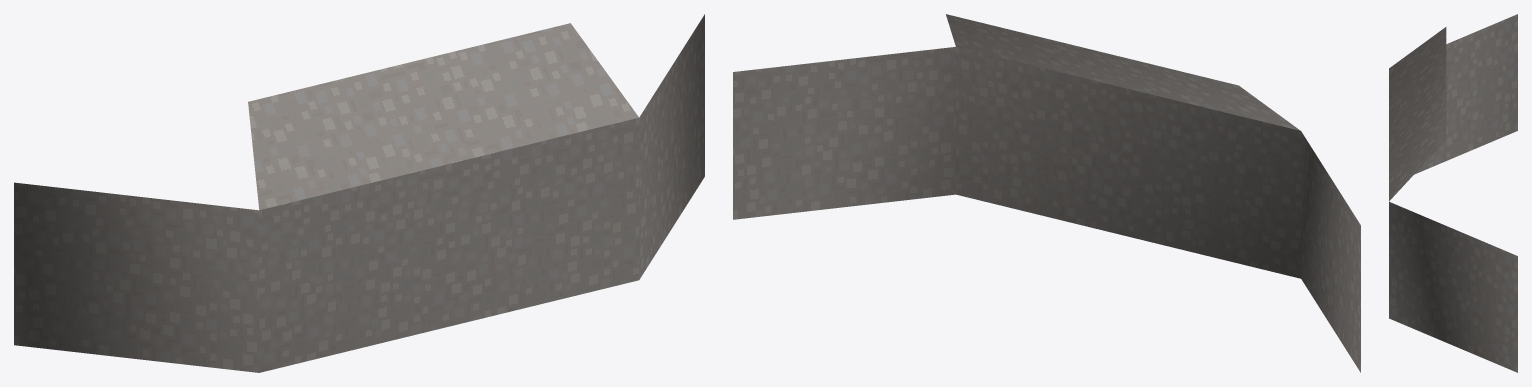
File: kd_stage_135c43_4_29_bounded_piece_12.glb
The picture shows the model from 3 angles, left to right: view 1: azimuth 30°, elevation 25°; view 2: azimuth 150°, elevation 25°; view 3: azimuth 270°, elevation 25°; orthographic projection. The views are drawn at different scales.
Parts seen in each view (by area): view 1: kd_stage_135c43_4_29_bounded_piece_12; view 2: kd_stage_135c43_4_29_bounded_piece_12; view 3: kd_stage_135c43_4_29_bounded_piece_12.
Boxes of the visible parts, left/top/right/bottom form: kd_stage_135c43_4_29_bounded_piece_12: left=14, top=14, right=704, bottom=372; kd_stage_135c43_4_29_bounded_piece_12: left=733, top=14, right=1360, bottom=372; kd_stage_135c43_4_29_bounded_piece_12: left=1389, top=14, right=1517, bottom=372.
Size of the model in its own units: 0.4 by 0.13 by 0.09.
Materials: 1 (1 with a texture image).
